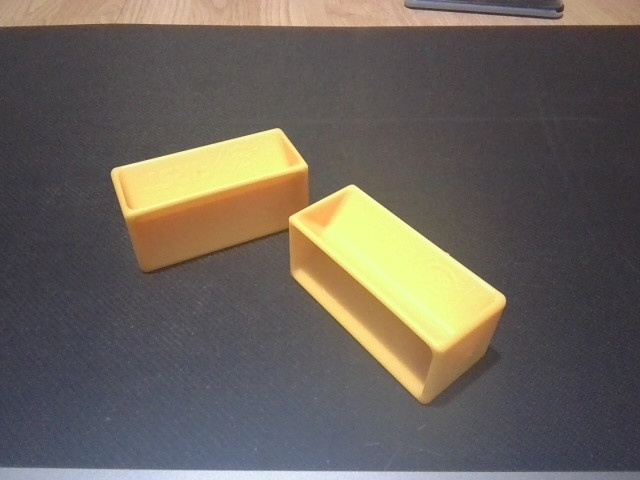YellowSample: (285, 182, 510, 410), (105, 125, 313, 275)
